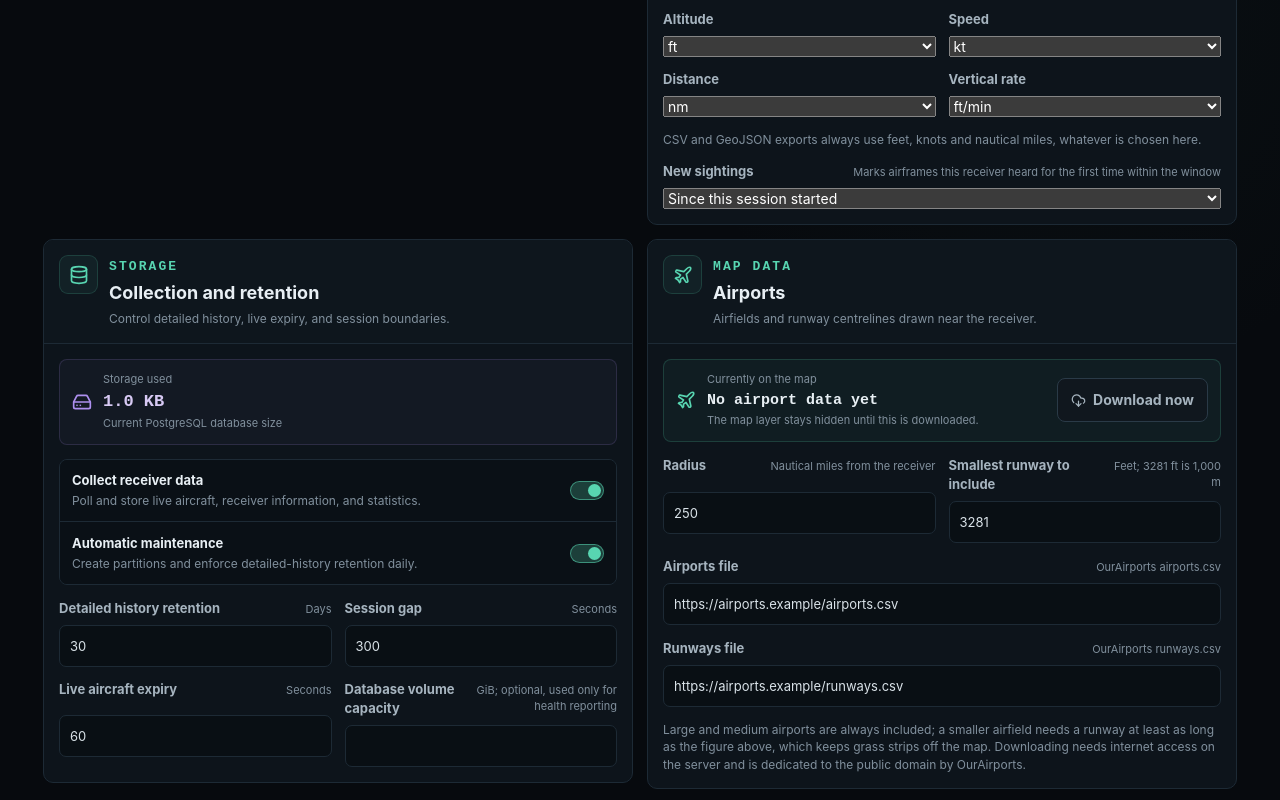
the airport dataset card › surfaces a failure without disturbing the rest of the form
(page scrolled)
Click the button "Download now".
click(1133, 400)  # box [1057,378,1208,422]
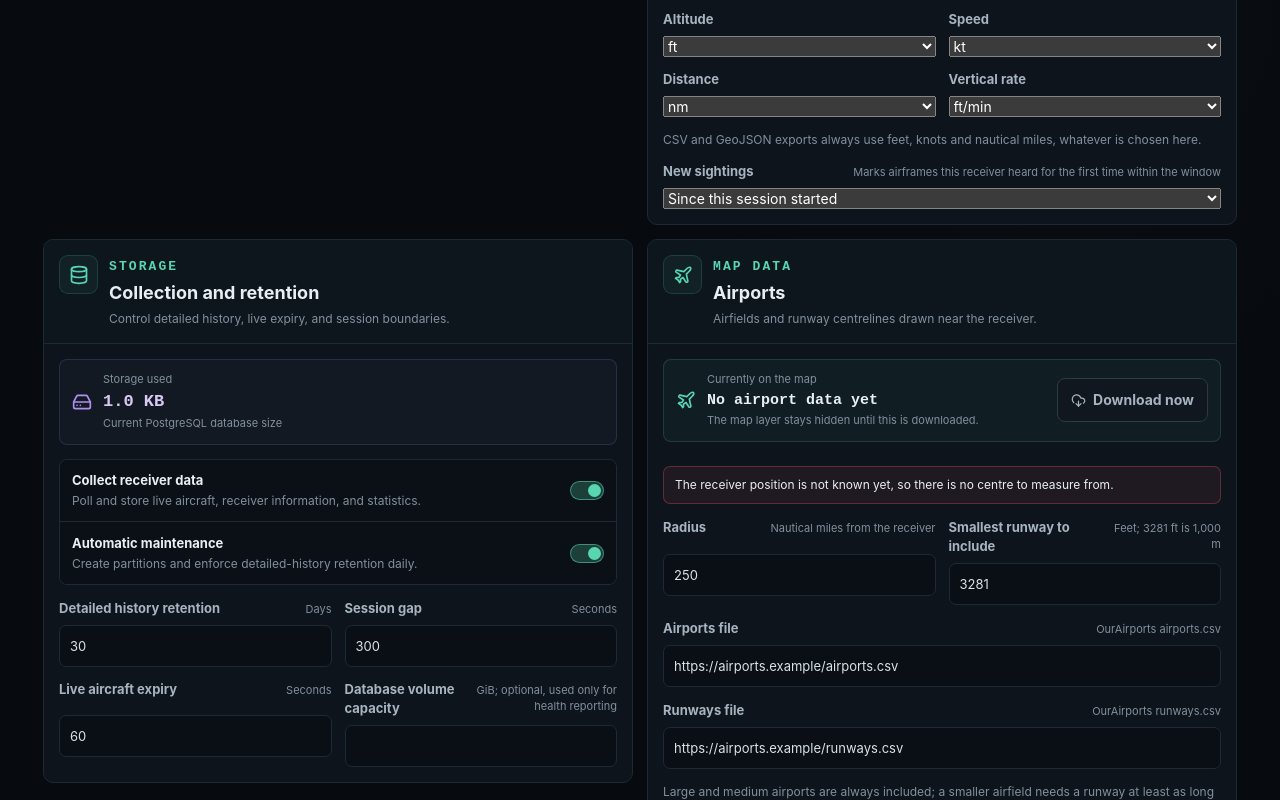
Expected: the message shows "receiver position is not known", [675,477,1114,492]
